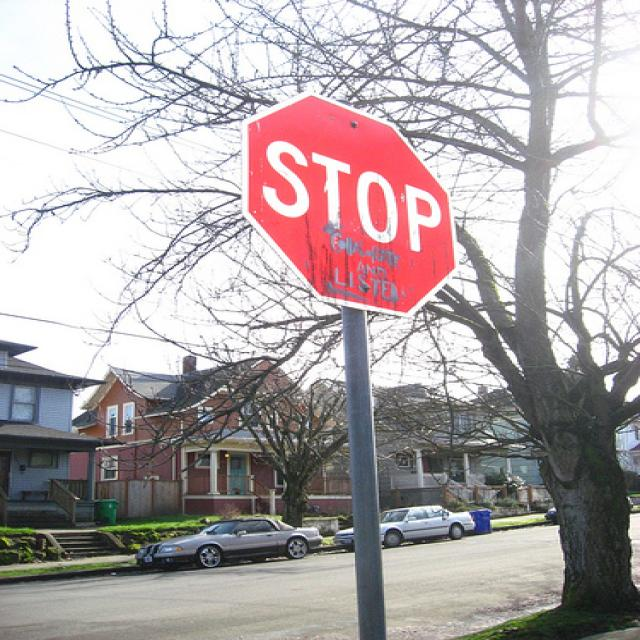Vehicle: (133, 516, 323, 568), (332, 505, 479, 552), (545, 495, 634, 526)
